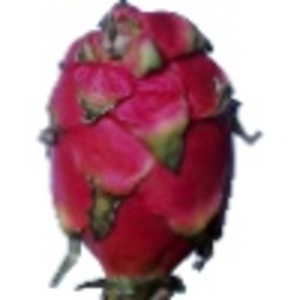pitaia: (39, 1, 263, 300)
